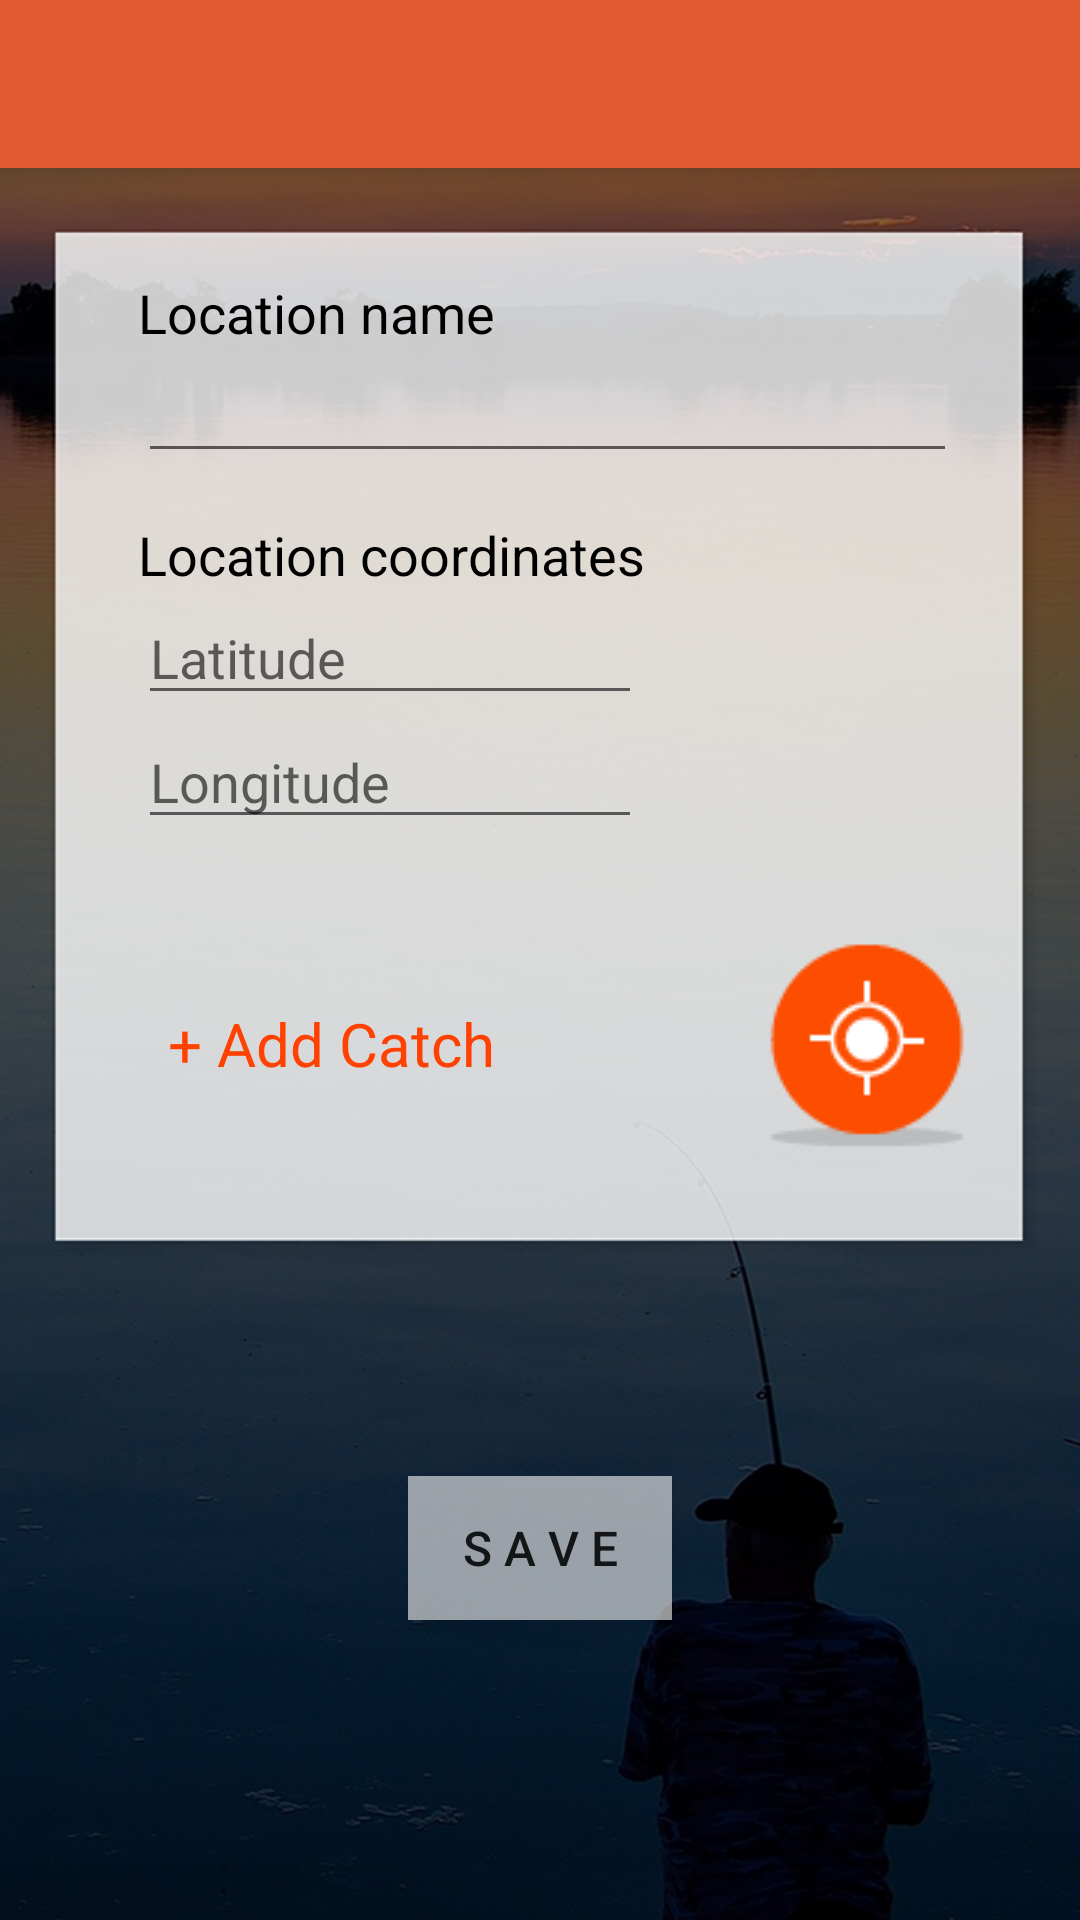

Named icons in this screenshot (1080px×1920px) and their bounding boxes, bbox=(x1, y1, x2, y2):
location: bbox=(770, 944, 964, 1145)
